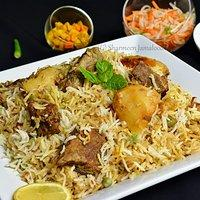Biryani: (3, 42, 197, 193)
